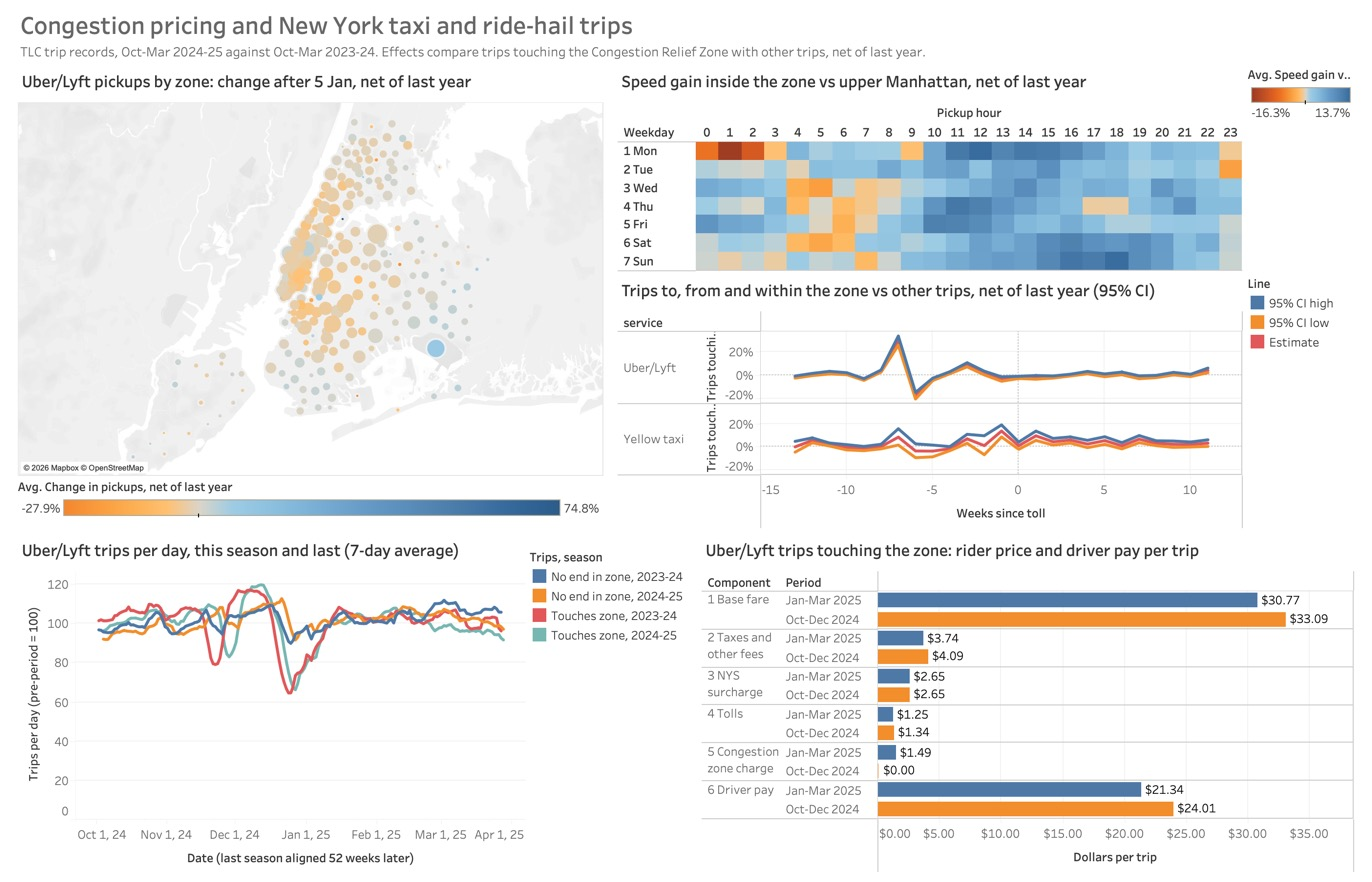

Layout of this report page (visuals, bound fields, positions):
{"tool":"tableau","page":{"name":"Congestion pricing impact","canvas":[1400,900],"ordinal":0},"visuals":[{"type":"text","box":[16,6,1100,34]},{"type":"text","box":[16,40,1360,22]},{"type":"worksheet","title":"Zone map","mark":"Circle","rows":["lat"],"cols":["lon"],"box":[16,66,600,420]},{"type":"worksheet","title":"Speed by hour","mark":"Square","rows":["weekday"],"cols":["hour"],"box":[630,66,640,210]},{"type":"legend","title":"Speed by hour","param":"[federated.heatmap].[avg:speed_gain:qk]","box":[1275,66,110,190]},{"type":"worksheet","title":"Event study","mark":"Line","rows":["service","change"],"cols":["rel_week"],"box":[630,280,640,260]},{"type":"legend","title":"Event study","param":"[federated.event].[none:series:nk]","box":[1275,280,110,90]},{"type":"legend","title":"Zone map","param":"[federated.zone_map].[avg:change_net:qk]","box":[16,488,600,50]},{"type":"worksheet","title":"Daily trips","mark":"Line","rows":["index"],"cols":["date"],"box":[16,546,520,346]},{"type":"worksheet","title":"Price per trip","mark":"Bar","rows":["component","period"],"cols":["usd"],"box":[716,546,668,346]},{"type":"legend","title":"Daily trips","param":"[federated.daily].[none:series:nk]","box":[540,560,170,110]}]}

Visuals, with their boxes in screenshot pixels (x1, y1, x2, y2), scaled from the page's 1400x900 canvas onto the 1372x882 screenshot:
text: {"left": 16, "top": 6, "right": 1094, "bottom": 39}
text: {"left": 16, "top": 39, "right": 1348, "bottom": 61}
"Zone map" worksheet (Circle marks): {"left": 16, "top": 65, "right": 604, "bottom": 476}
"Speed by hour" worksheet (Square marks): {"left": 617, "top": 65, "right": 1245, "bottom": 270}
"Speed by hour" legend: {"left": 1250, "top": 65, "right": 1357, "bottom": 251}
"Event study" worksheet (Line marks): {"left": 617, "top": 274, "right": 1245, "bottom": 529}
"Event study" legend: {"left": 1250, "top": 274, "right": 1357, "bottom": 363}
"Zone map" legend: {"left": 16, "top": 478, "right": 604, "bottom": 527}
"Daily trips" worksheet (Line marks): {"left": 16, "top": 535, "right": 525, "bottom": 874}
"Price per trip" worksheet (Bar marks): {"left": 702, "top": 535, "right": 1356, "bottom": 874}
"Daily trips" legend: {"left": 529, "top": 549, "right": 696, "bottom": 657}
